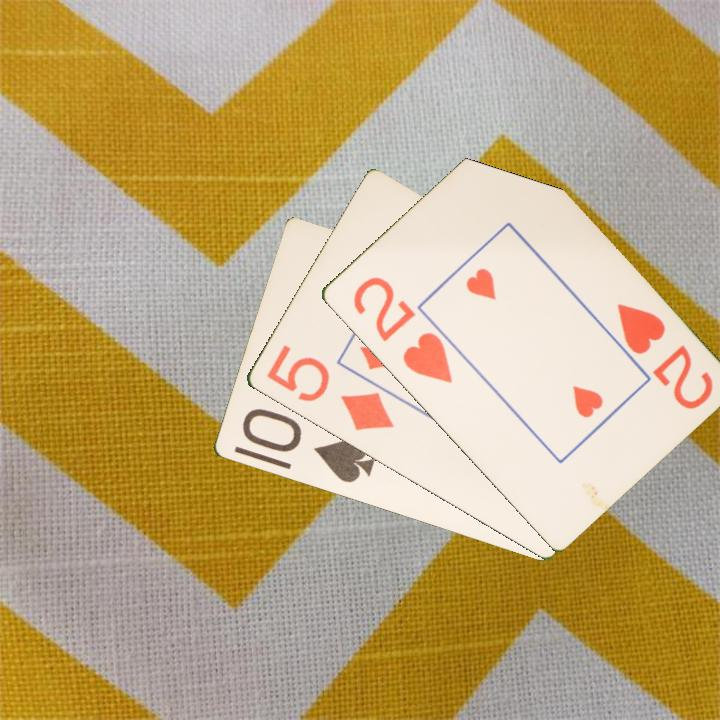10s: (238, 405, 377, 486)
2h: (349, 273, 455, 387), (612, 299, 716, 413)
5d: (262, 341, 397, 435)
